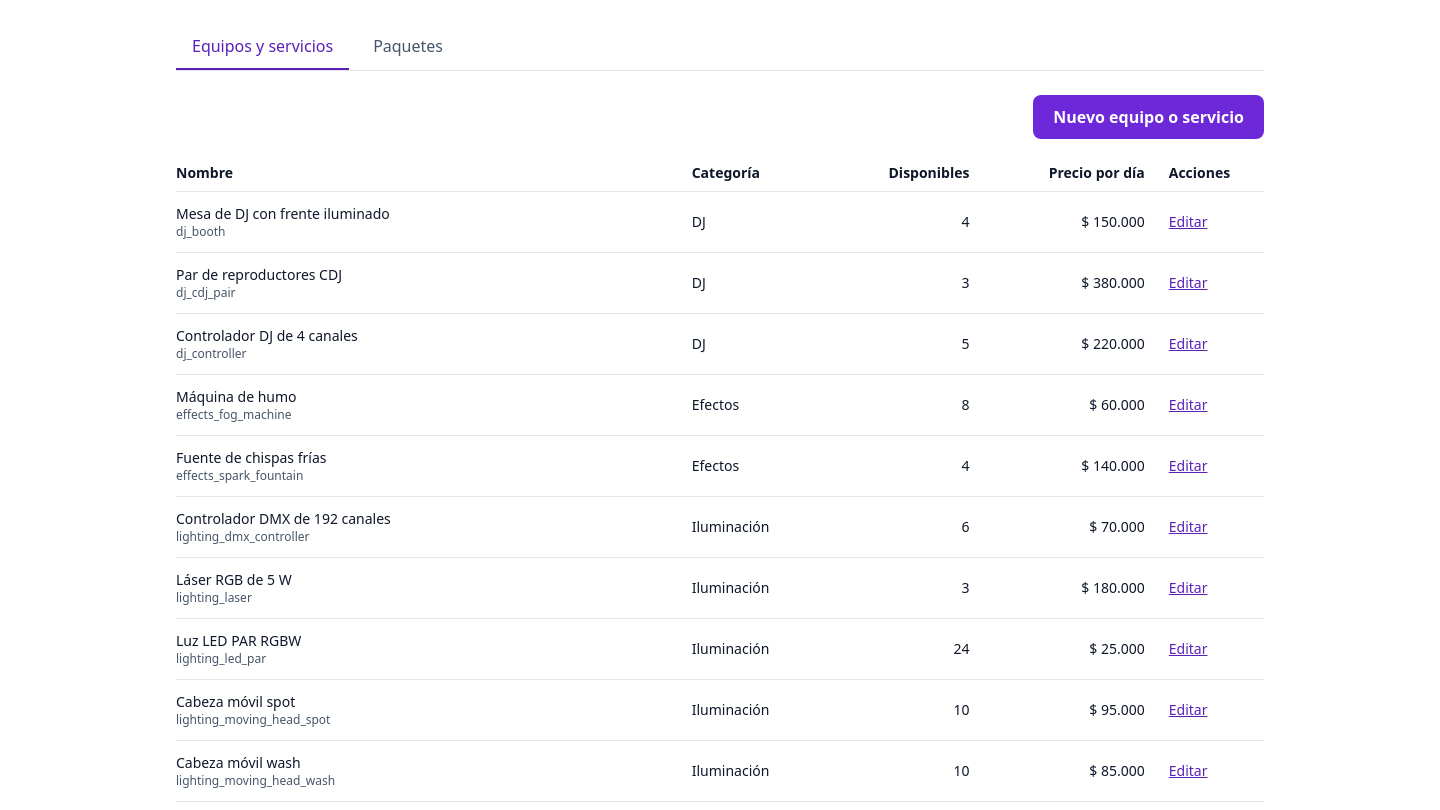
Test: catalog admin: tabs and dialog › opens the edit form prefilled in a dialog and cancel closes it without saving
(page scrolled)
Click the button "Editar" in the row of "Máquina de humo" at (1188, 405), box [1169,383,1208,427]
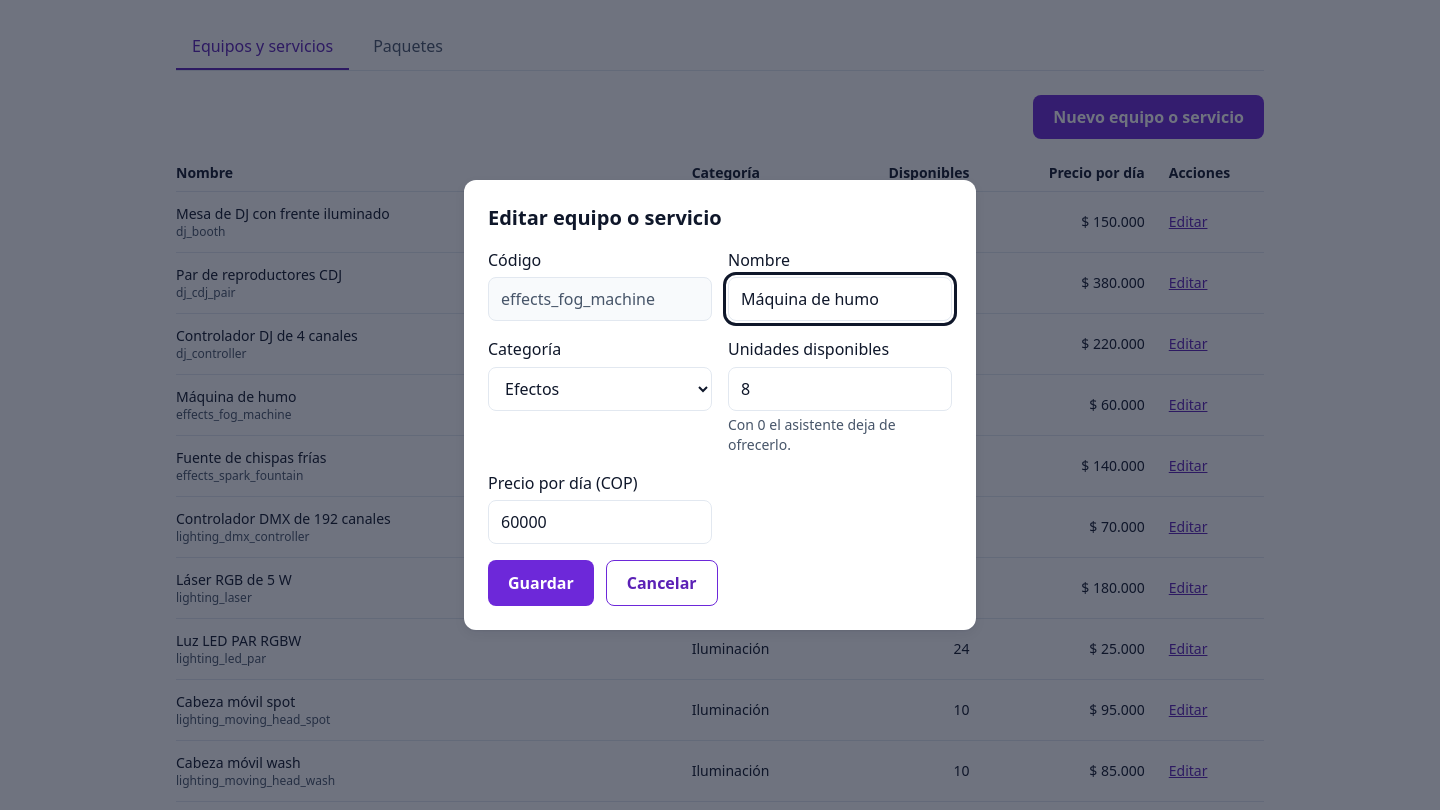
Now the field labelled "Nombre" holds "Máquina de humo", box [728,277,952,321]
Click the button "Cancelar" at (662, 583), box [606,560,718,606]
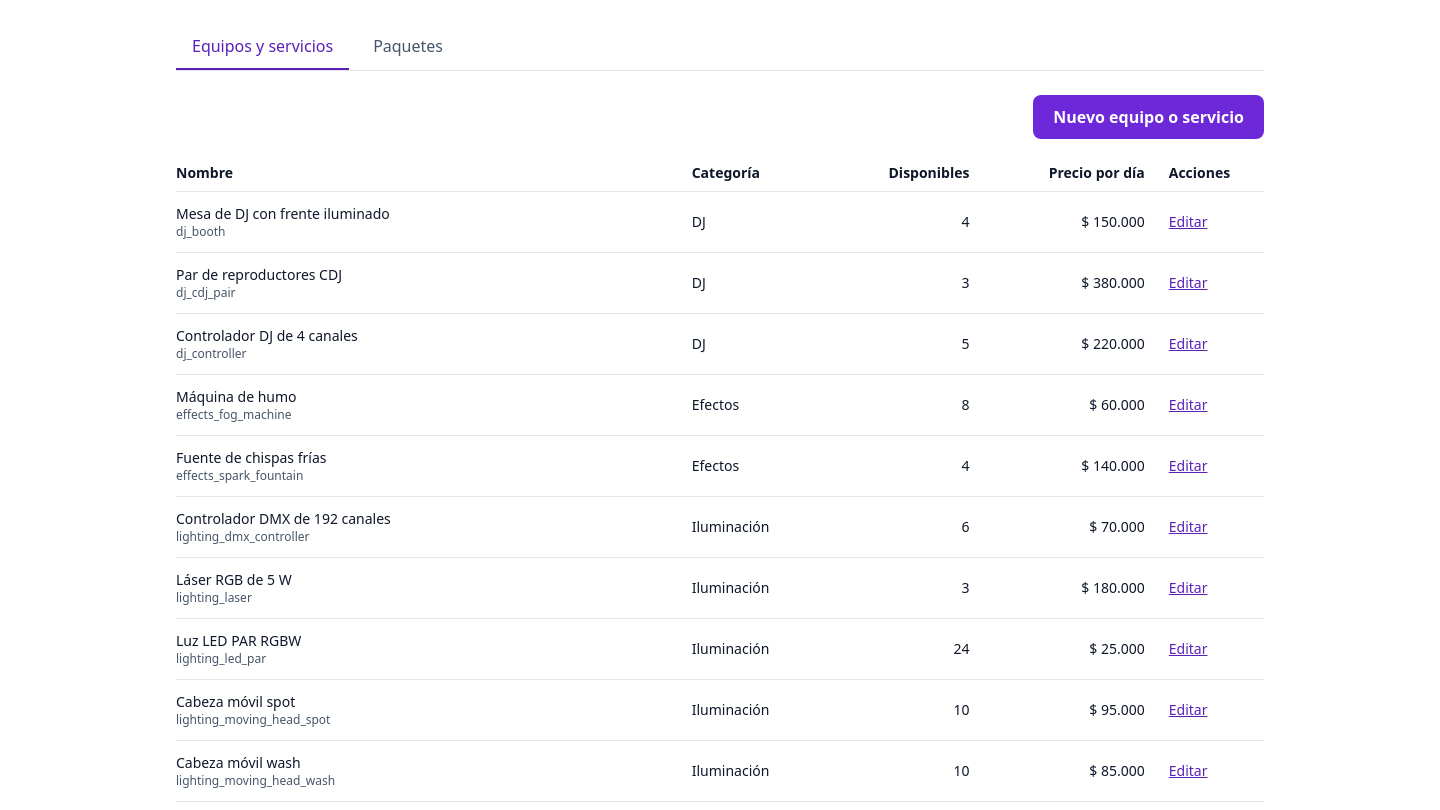
Now the dialog is gone
